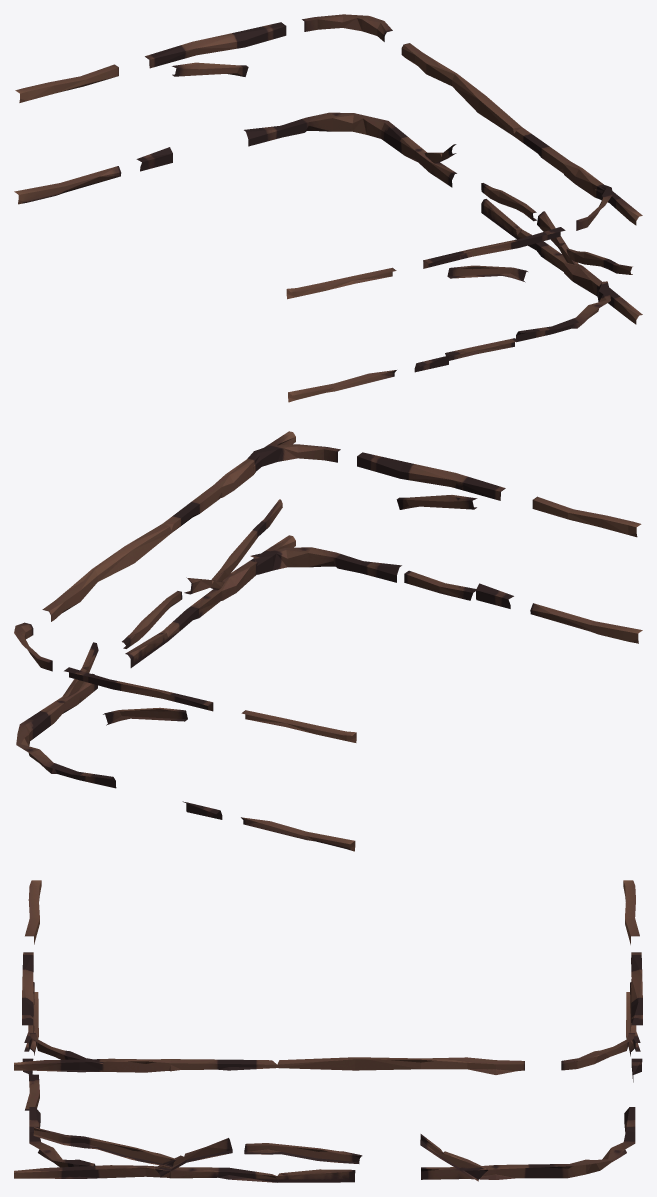
The model's file is Wood_01.FBX.
3 views of the same model, one above another, from view 1: azimuth 30°, elevation 25°; view 2: azimuth 150°, elevation 25°; view 3: azimuth 270°, elevation 25° (orthographic). The views are drawn at different scales.
Visible parts, largest first — view 1: Wood_01; view 2: Wood_01; view 3: Wood_01.
Part boxes in pixels (x1,y1,x2,y2): Wood_01: (14,14,642,402); Wood_01: (14,431,642,851); Wood_01: (14,880,642,1182).
Size of the model in its own units: 17.48 by 5.61 by 25.3.
